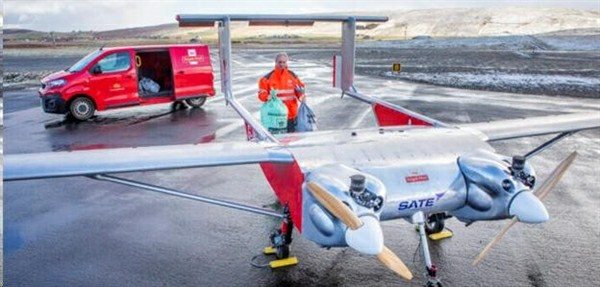maybay_khongnguoilai: (17, 18, 600, 264)
